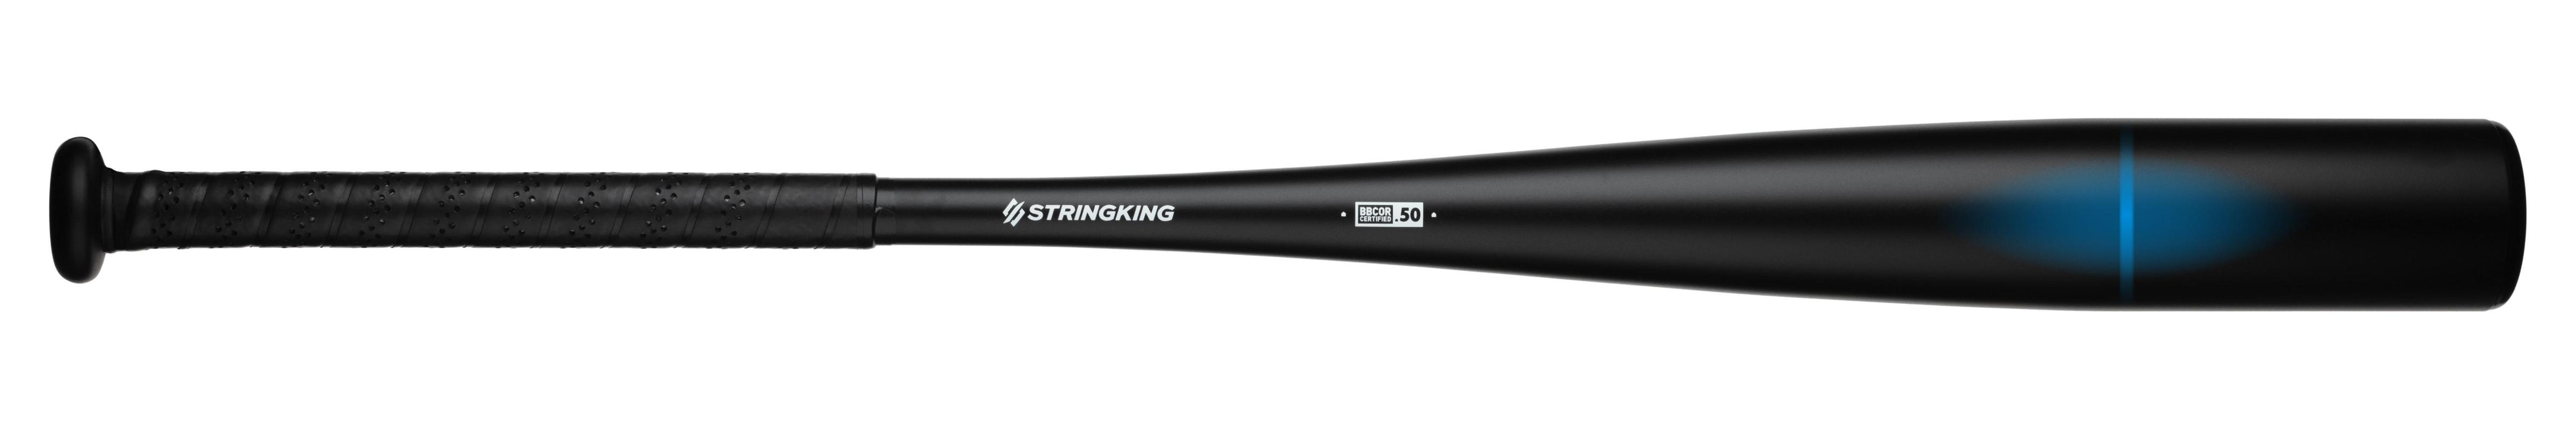bita: (36, 113, 2518, 307)
